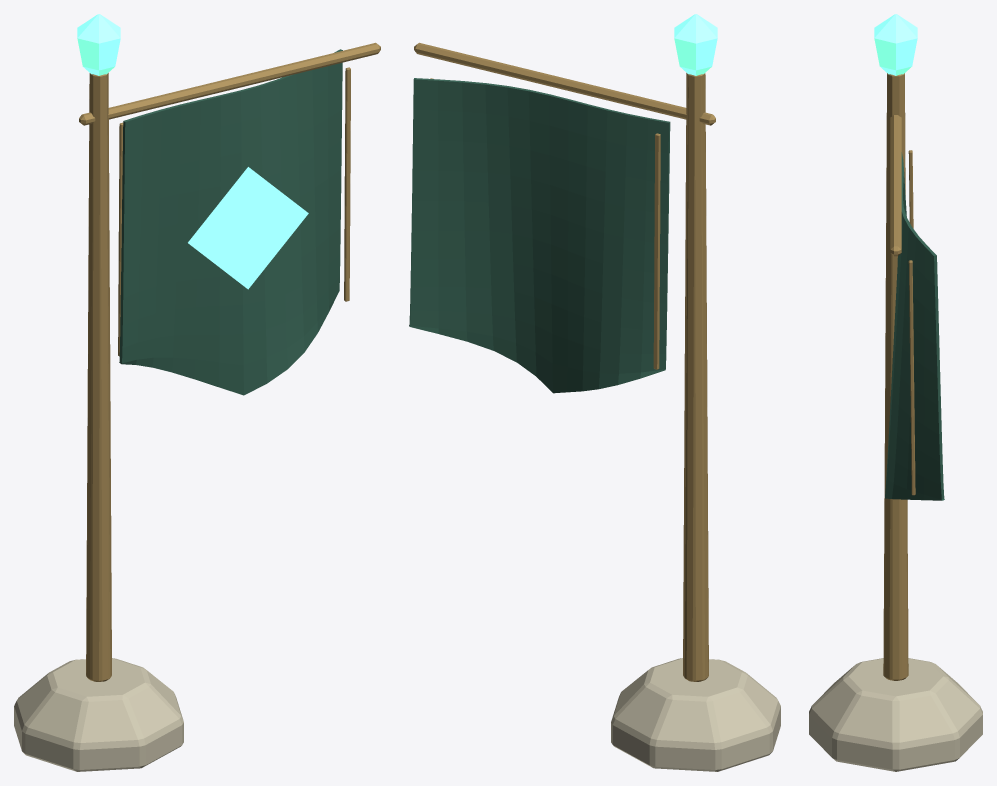
The model's file is banner_green.glb.
3 renders of one model, left to right at view 1: azimuth 30°, elevation 25°; view 2: azimuth 150°, elevation 25°; view 3: azimuth 270°, elevation 25°, orthographic.
Visible parts, largest first — view 1: banner_green / mesh; view 2: banner_green / mesh; view 3: banner_green / mesh.
Part boxes in pixels (bbox=[...]): banner_green / mesh: bbox=[14, 14, 380, 771]; banner_green / mesh: bbox=[409, 14, 780, 771]; banner_green / mesh: bbox=[809, 14, 982, 771].
Size of the model in its own units: 2.79 by 5.41 by 1.18.
